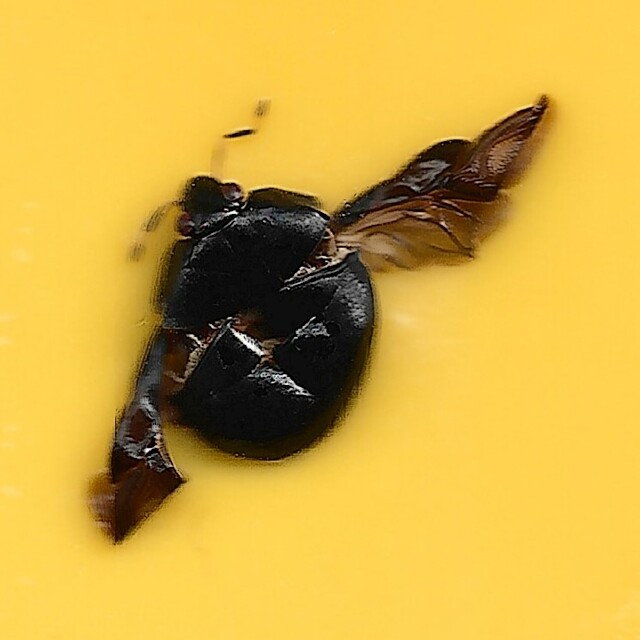Coleoptera: (86, 91, 554, 549)
